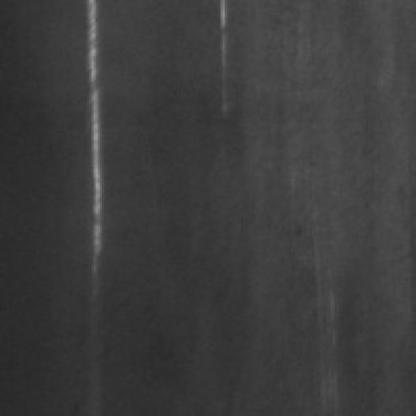scratches: (79, 4, 106, 279)
